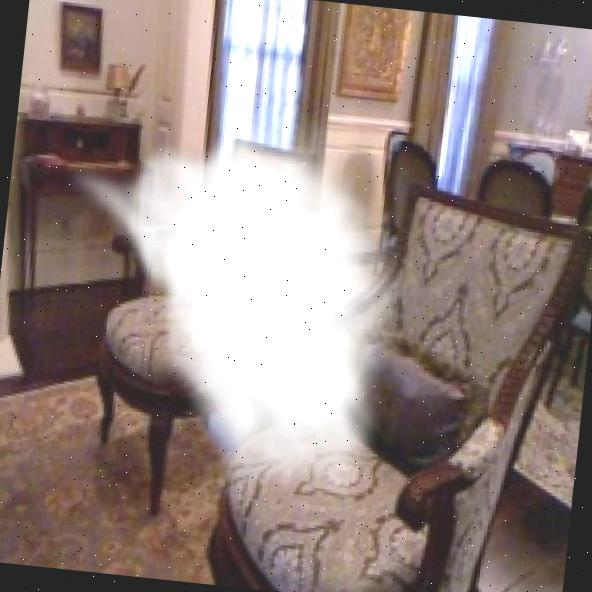smoke: (33, 87, 427, 525)
